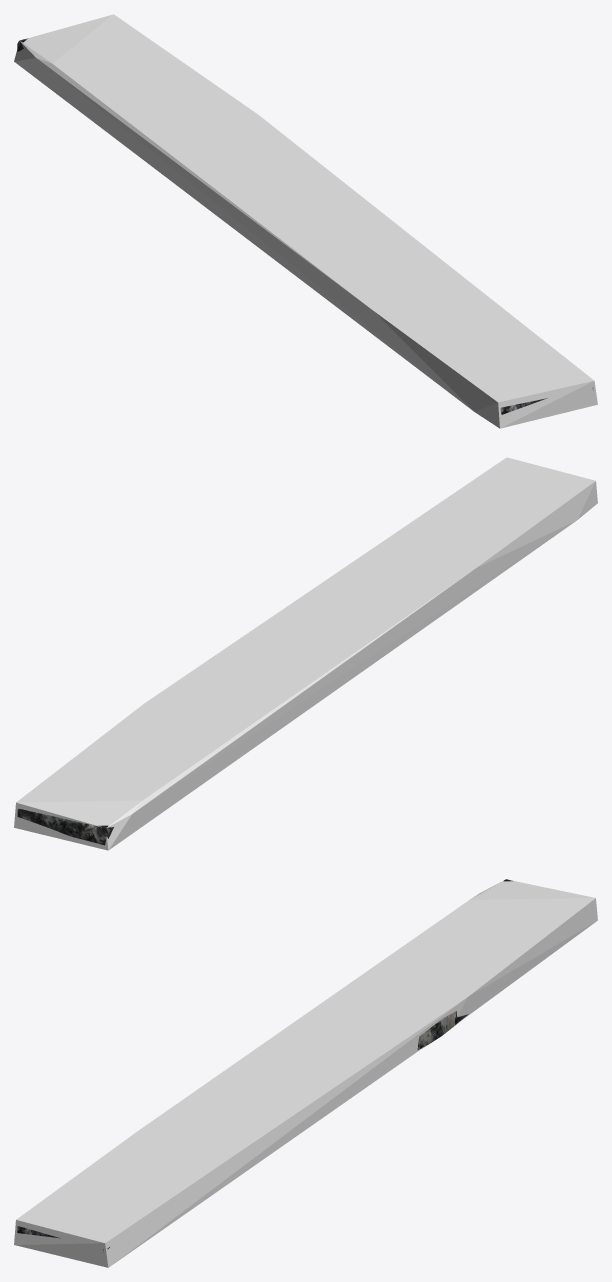
File: SM_wood_debris_03.fbx
3 views of the same model, one above another, from view 1: azimuth 30°, elevation 25°; view 2: azimuth 150°, elevation 25°; view 3: azimuth 330°, elevation 25° (orthographic). The views are drawn at different scales.
Parts seen in each view (by area): view 1: SM_wood_debris_03_ConvexHulls; view 2: SM_wood_debris_03_ConvexHulls, SM_wood_debris_03_LOD0; view 3: SM_wood_debris_03_ConvexHulls, SM_wood_debris_03_LOD0.
Part boxes in pixels (x1,y1,x2,y2): SM_wood_debris_03_ConvexHulls: [14, 14, 597, 428]; SM_wood_debris_03_ConvexHulls: [14, 457, 597, 850]; SM_wood_debris_03_LOD0: [17, 808, 113, 845]; SM_wood_debris_03_ConvexHulls: [14, 880, 597, 1267]; SM_wood_debris_03_LOD0: [17, 879, 513, 1252].
Bounding box in the file's own units: 28.13 × 206 × 5.67.
